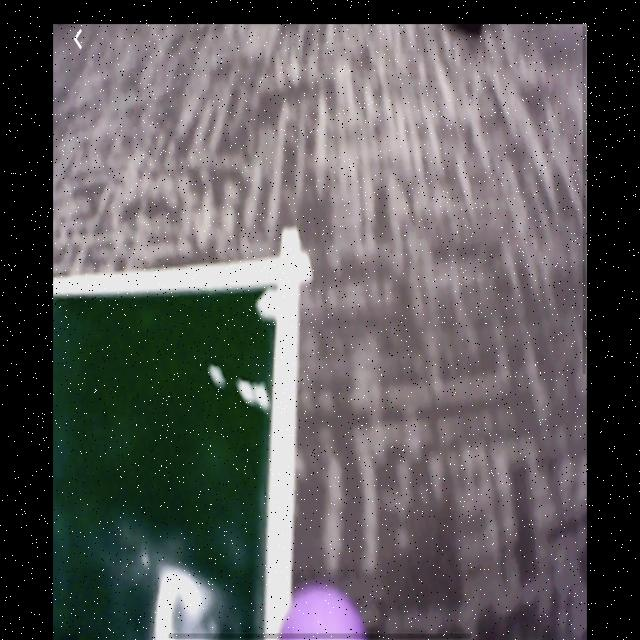ball: (278, 583, 368, 639)
